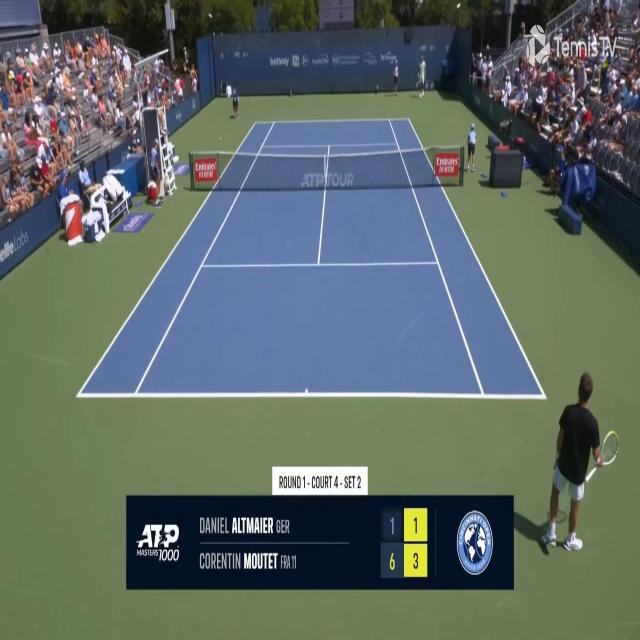tennis-player: (539, 364, 620, 559), (416, 48, 428, 102)
